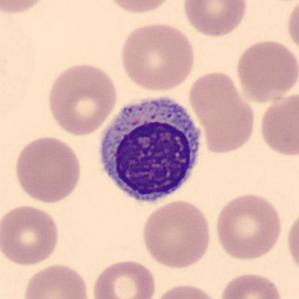Lymphocyte: (92, 91, 208, 209)
RBC: (187, 67, 257, 156), (117, 20, 198, 92), (44, 61, 120, 137), (139, 198, 213, 270), (213, 190, 284, 262), (12, 134, 84, 204), (233, 37, 298, 103), (0, 202, 62, 268), (257, 90, 299, 159), (90, 257, 158, 299), (21, 261, 93, 299), (180, 0, 250, 39), (218, 270, 286, 299), (150, 281, 220, 299), (100, 0, 178, 15), (284, 208, 299, 278), (0, 0, 50, 17), (285, 0, 299, 54)
